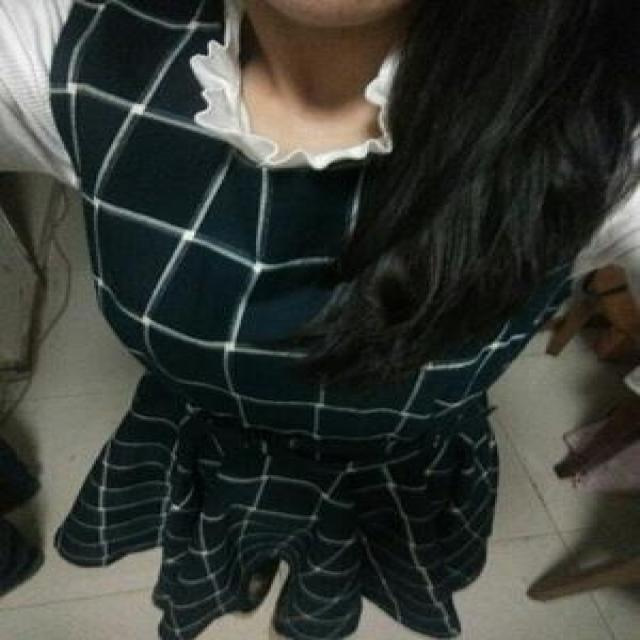vest dress: (55, 2, 638, 635)
